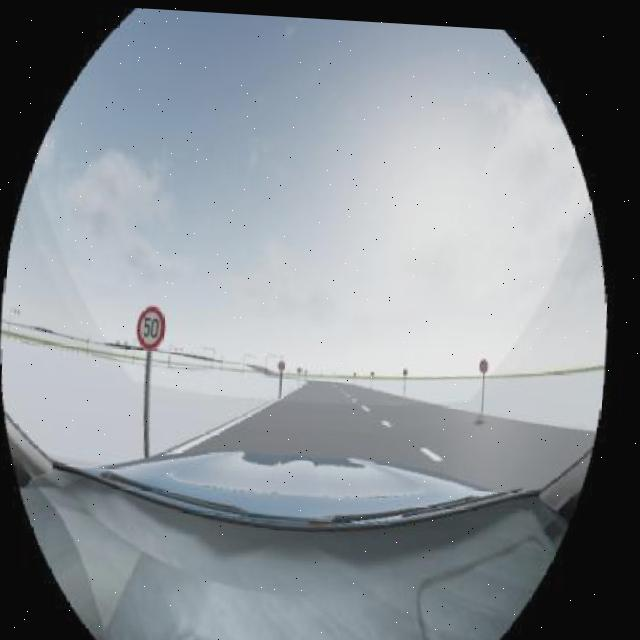Speed limit 50: (136, 300, 172, 351)
